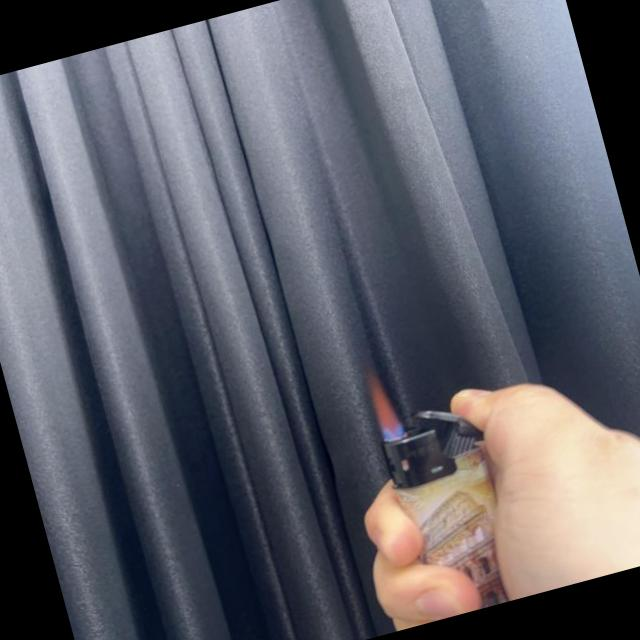Fire: (360, 368, 406, 444)
